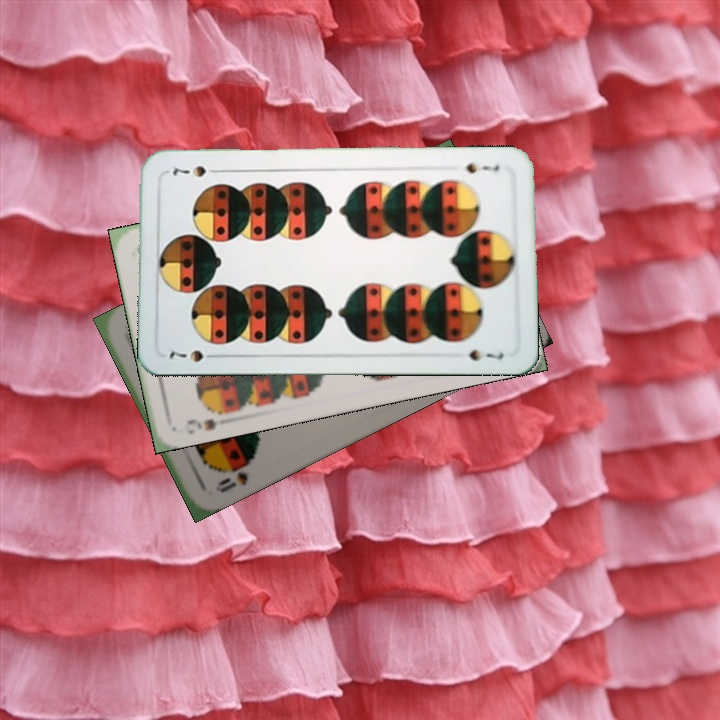S7: (165, 346, 221, 365), (462, 159, 502, 176)
S9: (182, 405, 235, 433)
SO: (211, 467, 251, 495)
